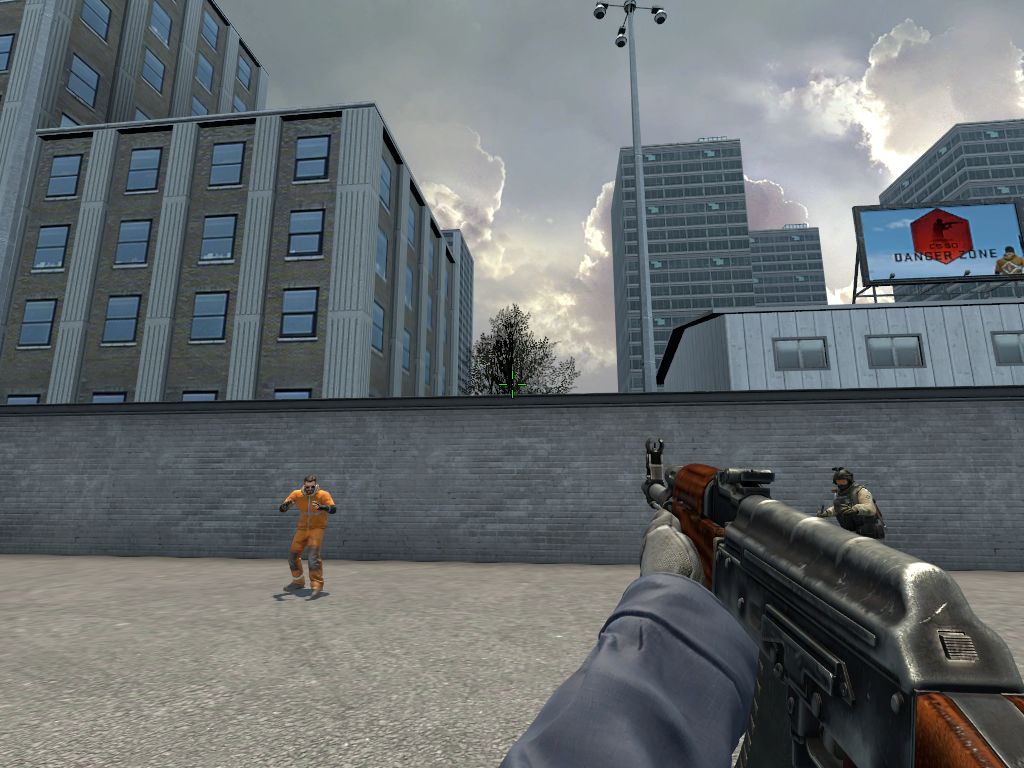ct head: (835, 468, 851, 488)
tr head: (305, 477, 315, 493)
